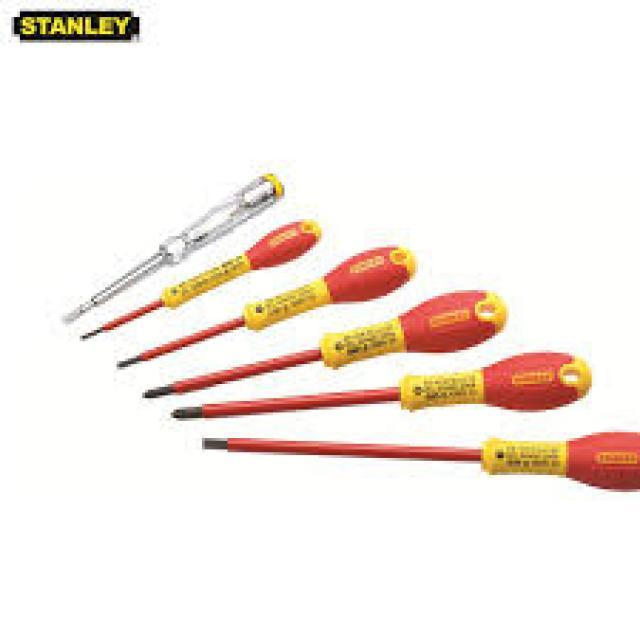screwdriver: (128, 286, 509, 406), (111, 242, 421, 378), (72, 215, 326, 357), (166, 350, 596, 424), (190, 426, 640, 495)
